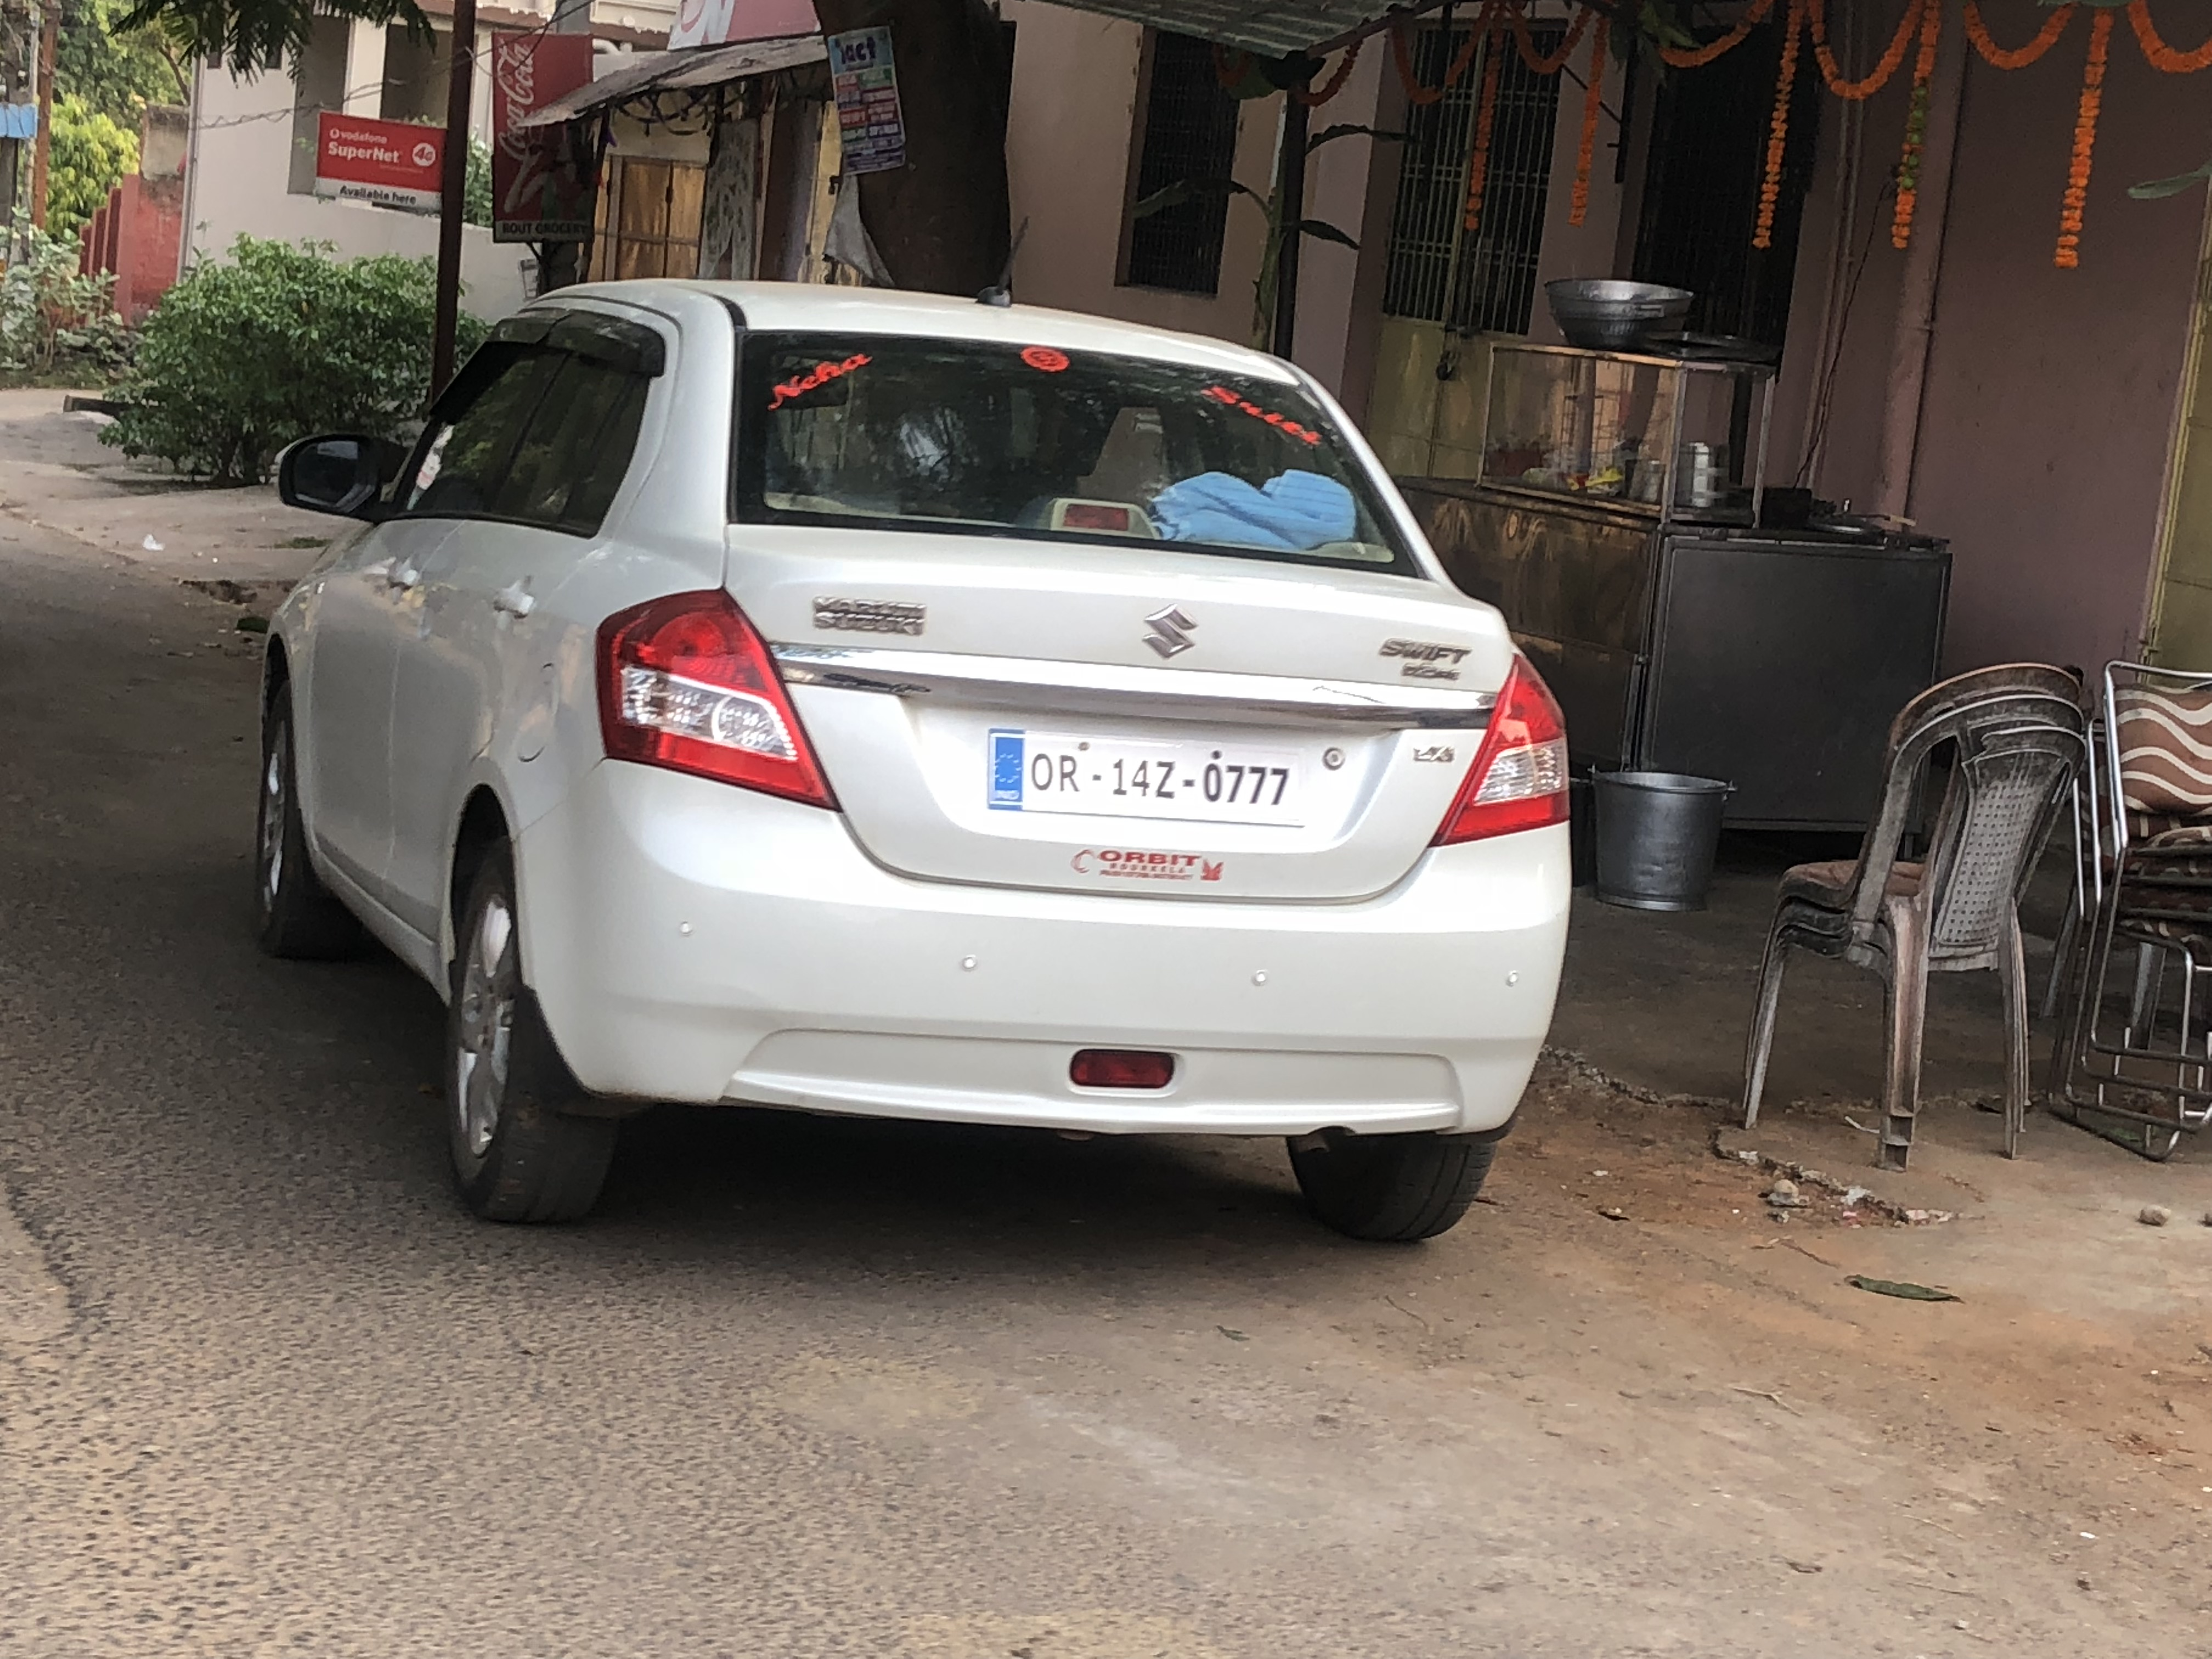licenseplate: (985, 720, 1314, 830)
